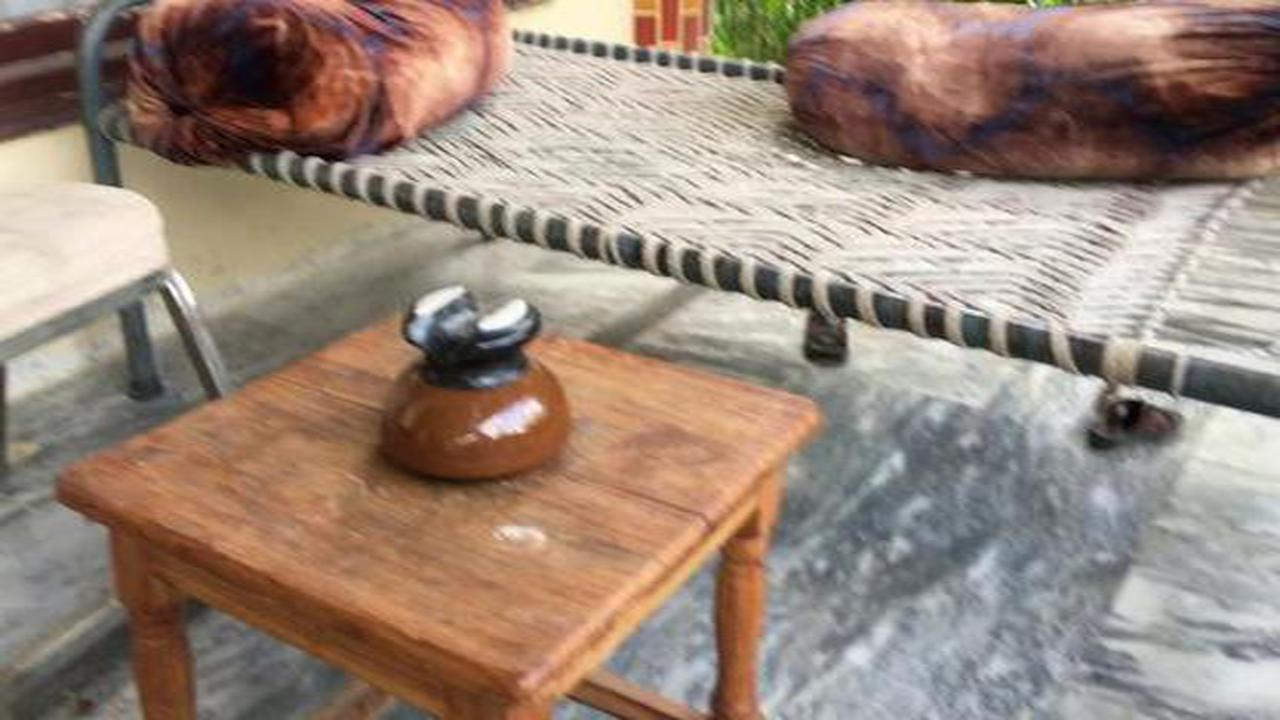insulator_pin: (370, 264, 585, 490)
